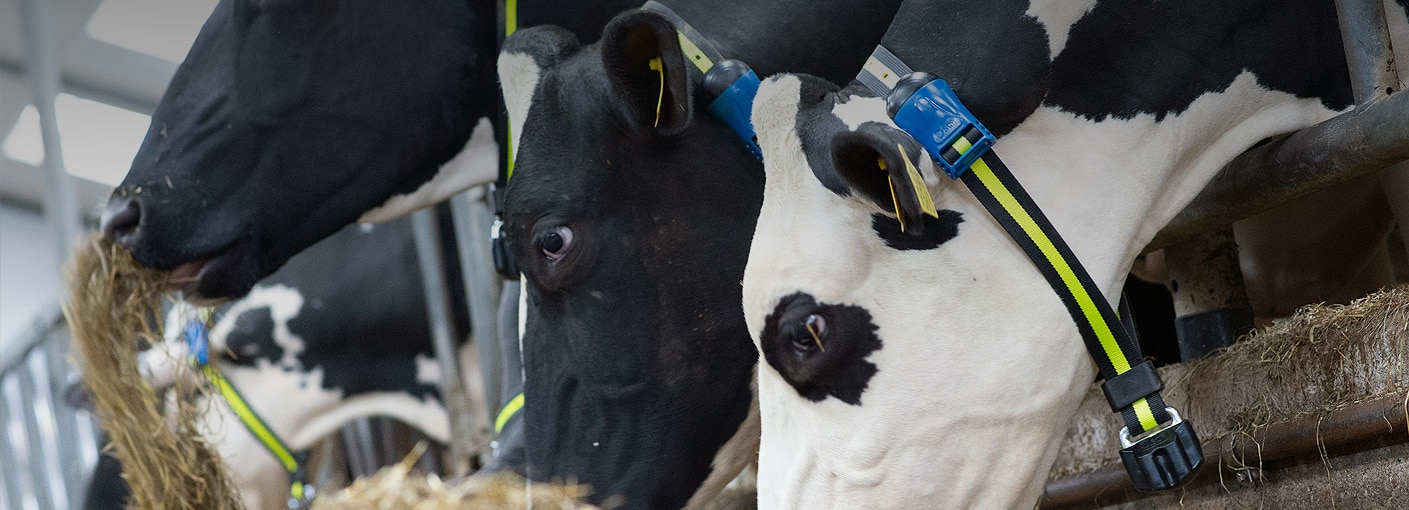cow: (757, 65, 1151, 510), (477, 66, 749, 507), (118, 7, 485, 295)
